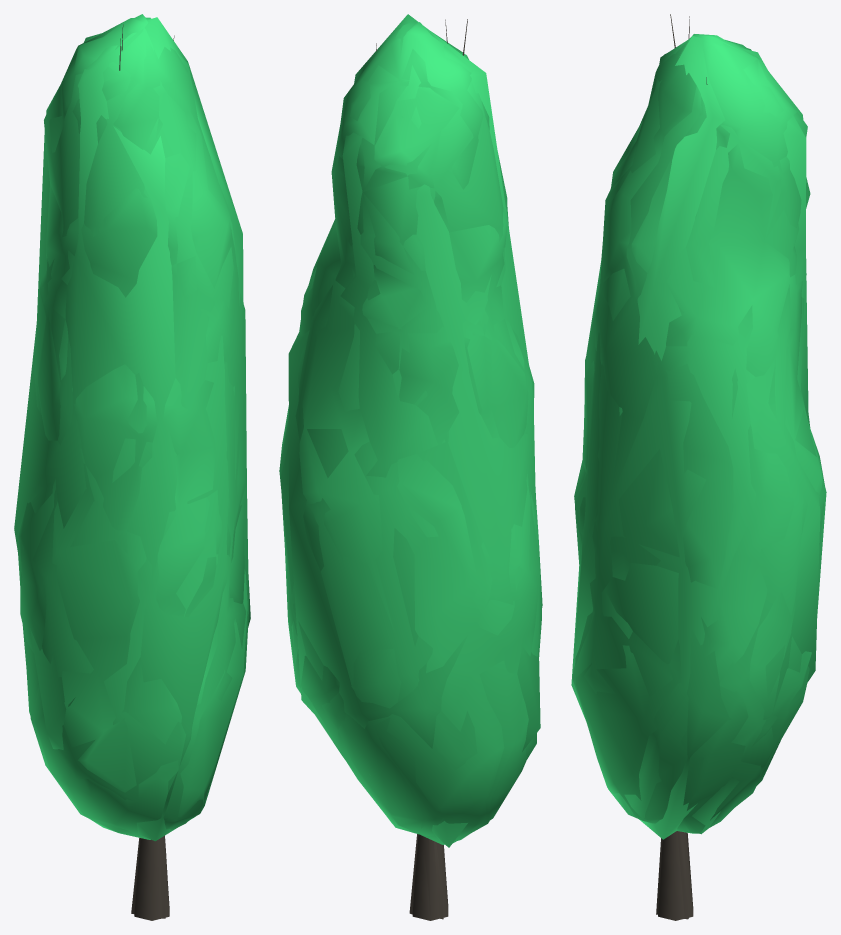
The model's file is Tree1.fbx.
The picture shows the model from 3 angles, left to right: view 1: azimuth 30°, elevation 25°; view 2: azimuth 150°, elevation 25°; view 3: azimuth 270°, elevation 25°; orthographic projection. The views are drawn at different scales.
Visible parts, largest first — view 1: tree.001, tree.003, tree.002; view 2: tree.001, tree.002, tree.003; view 3: tree.001, tree.002, tree.003.
Part boxes in pixels (<box>): tree.001: <box>18,17,247,920</box>; tree.003: <box>14,17,250,913</box>; tree.002: <box>18,14,248,918</box>; tree.001: <box>279,19,542,920</box>; tree.002: <box>280,19,541,920</box>; tree.003: <box>288,14,540,919</box>; tree.001: <box>574,14,824,920</box>; tree.002: <box>572,14,826,919</box>; tree.003: <box>571,36,820,839</box>.
Bounding box in the file's own units: 3.67 × 14.02 × 3.66.
